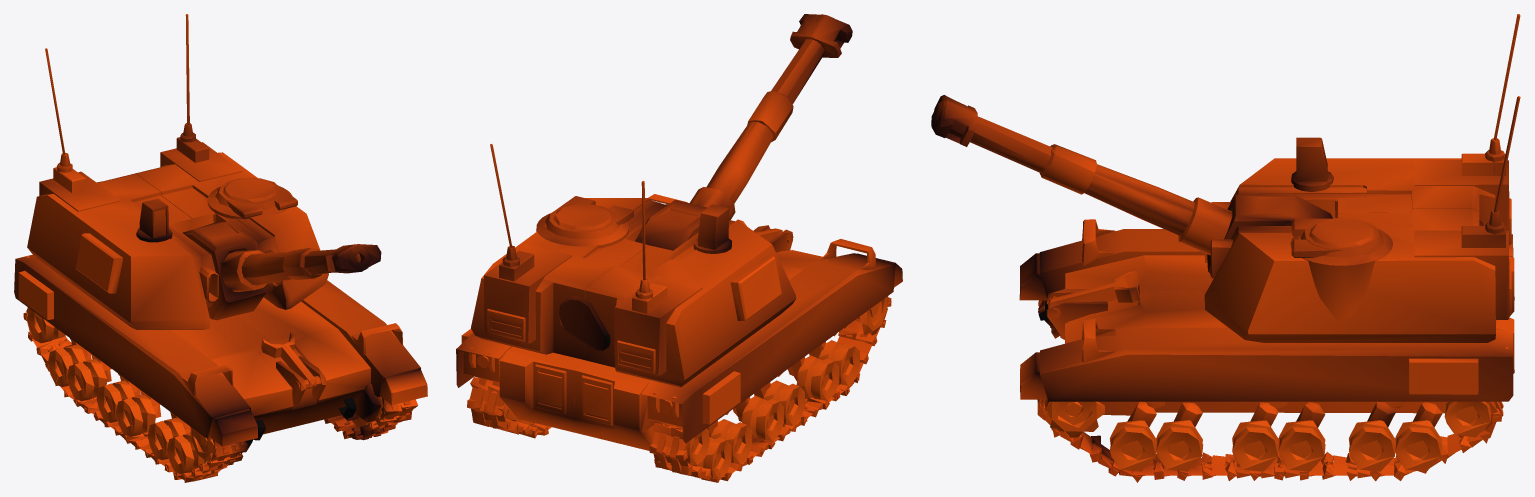
File: WbHowitzerLowpoly.fbx
The picture shows the model from 3 angles, left to right: view 1: azimuth 30°, elevation 25°; view 2: azimuth 150°, elevation 25°; view 3: azimuth 270°, elevation 25°; orthographic projection. The views are drawn at different scales.
Parts seen in each view (by area): view 1: Body.001, TurretMain.001, BarrelCannon.001, Wheel.009, Wheel.007, Wheel.011, Wheel.008, Wheel.010, Wheel.006, WheelFixed.002, WheelFixed.003; view 2: TurretMain.001, Body.001, BarrelCannon.001, Wheel.010, Wheel.008, Wheel.007, Wheel.011, Wheel.009, Wheel.006, WheelFixed.003, WheelFixed.002; view 3: Body.001, TurretMain.001, BarrelCannon.001, Wheel.002, Wheel.001, Wheel.003, Wheel.058, Wheel.004, Wheel.005, WheelFixed, WheelFixed.001.
Boxes of the visible parts, x1=… form: Body.001: x1=14, y1=254, x2=427, y2=482; TurretMain.001: x1=27, y1=14, x2=328, y2=329; BarrelCannon.001: x1=182, y1=221, x2=381, y2=320; Wheel.009: x1=116, y1=395, x2=155, y2=436; Wheel.007: x1=67, y1=359, x2=107, y2=401; Wheel.011: x1=167, y1=433, x2=203, y2=474; Wheel.008: x1=96, y1=380, x2=134, y2=422; Wheel.010: x1=147, y1=418, x2=185, y2=460; Wheel.006: x1=47, y1=345, x2=86, y2=387; WheelFixed.002: x1=27, y1=308, x2=65, y2=343; WheelFixed.003: x1=190, y1=427, x2=240, y2=463; TurretMain.001: x1=471, y1=144, x2=796, y2=387; Body.001: x1=456, y1=194, x2=902, y2=482; BarrelCannon.001: x1=635, y1=14, x2=852, y2=250; Wheel.010: x1=796, y1=355, x2=839, y2=400; Wheel.008: x1=742, y1=395, x2=783, y2=441; Wheel.007: x1=711, y1=419, x2=752, y2=464; Wheel.011: x1=818, y1=340, x2=859, y2=385; Wheel.009: x1=763, y1=380, x2=804, y2=425; Wheel.006: x1=690, y1=437, x2=731, y2=479; WheelFixed.003: x1=844, y1=296, x2=887, y2=335; WheelFixed.002: x1=673, y1=425, x2=709, y2=465; Body.001: x1=1019, y1=219, x2=1514, y2=482; TurretMain.001: x1=1204, y1=14, x2=1520, y2=342; BarrelCannon.001: x1=931, y1=95, x2=1332, y2=273; Wheel.002: x1=1232, y1=420, x2=1279, y2=471; Wheel.001: x1=1156, y1=420, x2=1203, y2=471; Wheel.003: x1=1278, y1=420, x2=1325, y2=471; Wheel.058: x1=1110, y1=420, x2=1156, y2=471; Wheel.004: x1=1349, y1=420, x2=1395, y2=471; Wheel.005: x1=1395, y1=420, x2=1442, y2=471; WheelFixed: x1=1044, y1=401, x2=1104, y2=437; WheelFixed.001: x1=1444, y1=401, x2=1491, y2=437.
Size of the model in its own units: 0.5989 by 0.7674 by 1.11.
